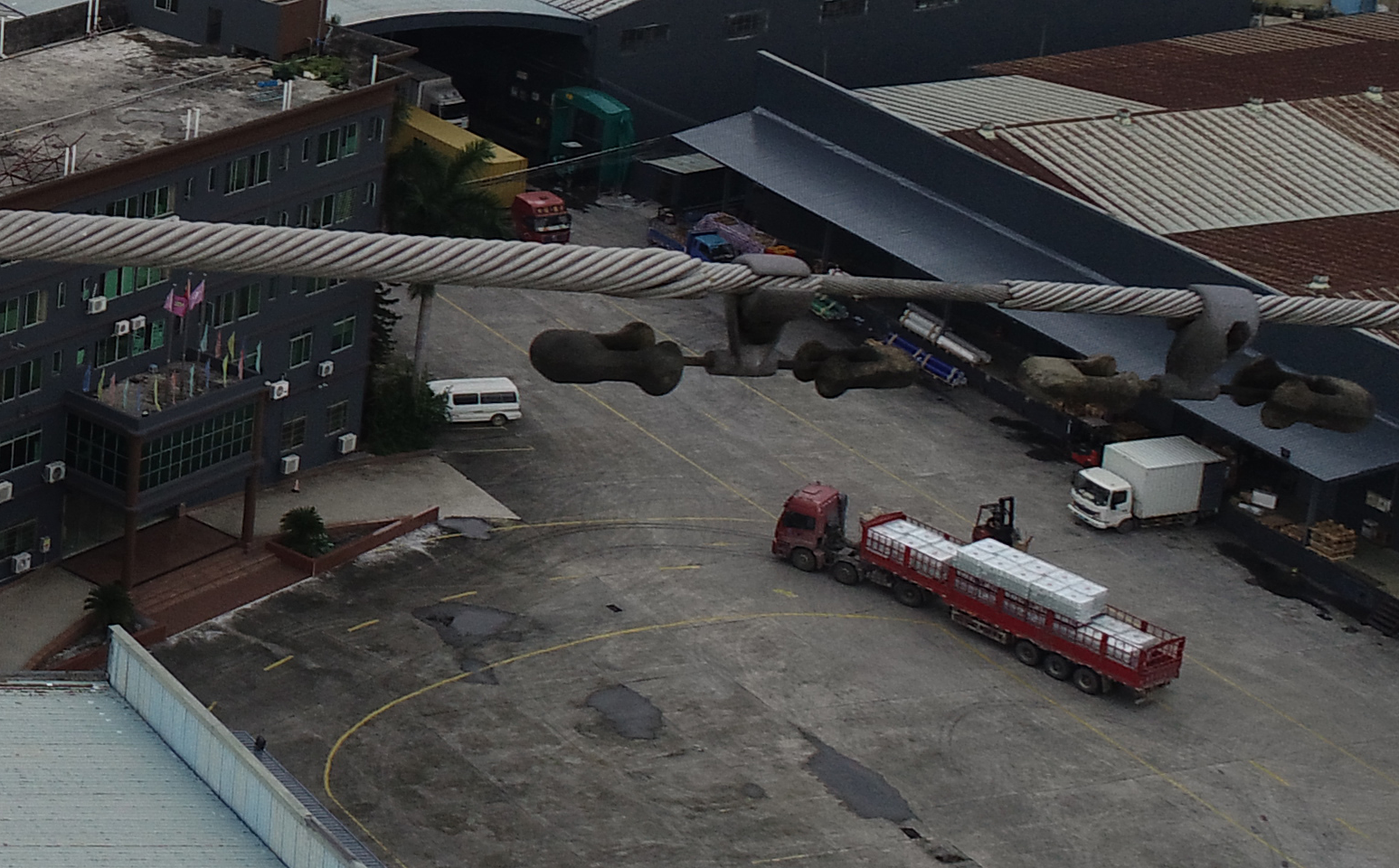damper: (525, 244, 926, 395), (1007, 278, 1377, 440)
